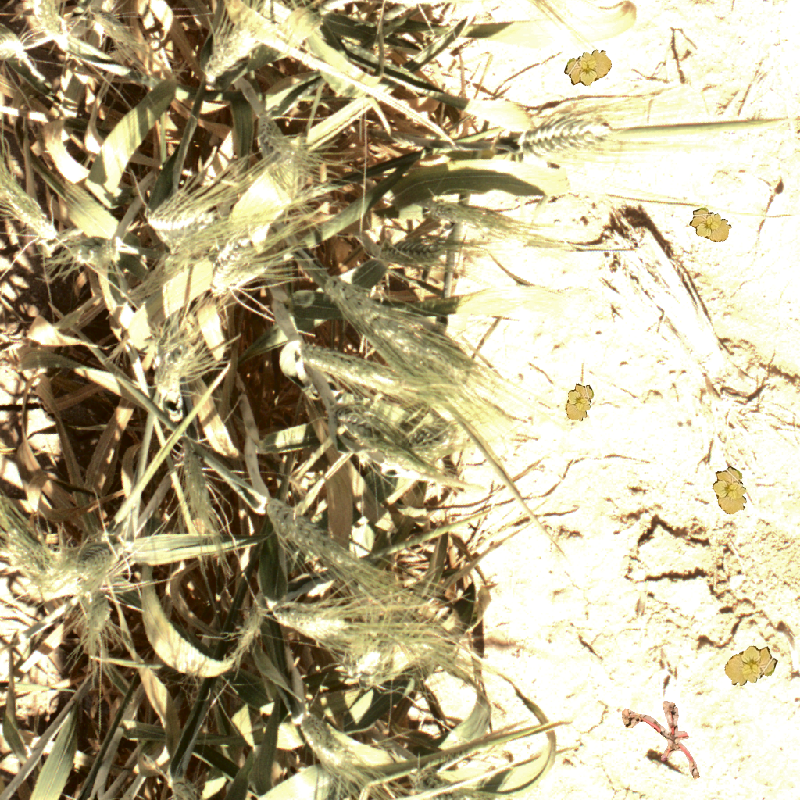spikelet: (316, 270, 462, 364), (255, 492, 360, 572), (332, 409, 437, 489), (284, 338, 405, 394), (180, 437, 222, 562), (516, 113, 612, 162), (427, 198, 519, 249), (1, 518, 58, 599), (292, 707, 360, 769), (1, 173, 60, 244), (196, 23, 264, 84), (266, 597, 353, 642), (205, 242, 270, 297), (141, 197, 215, 243), (256, 118, 312, 177), (149, 345, 197, 405), (75, 595, 114, 658), (26, 1, 75, 49), (74, 541, 125, 581)
weed: (620, 701, 699, 786), (700, 461, 760, 520), (560, 40, 616, 96), (724, 644, 782, 697), (685, 200, 735, 251), (555, 378, 604, 426)
